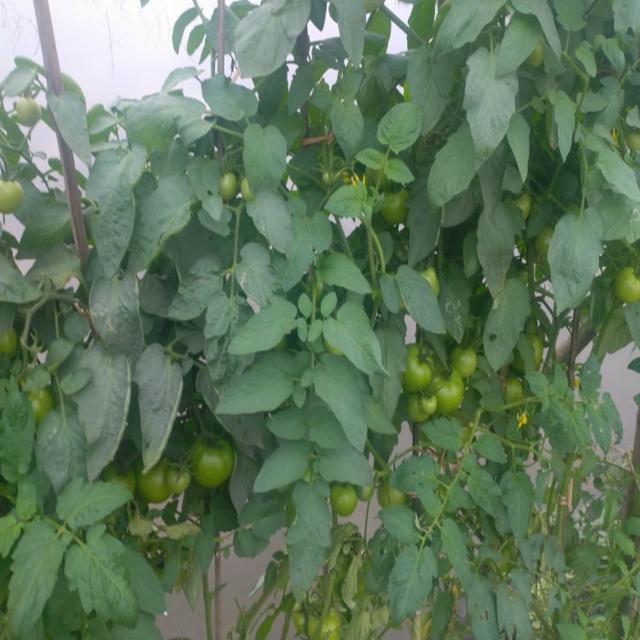tomato: (193, 438, 235, 490), (433, 373, 470, 420), (405, 342, 438, 387), (140, 468, 179, 506), (1, 172, 29, 217), (381, 189, 413, 228), (409, 393, 442, 428), (332, 484, 362, 517), (173, 461, 200, 496), (618, 265, 640, 307), (17, 99, 45, 131), (453, 347, 480, 379), (378, 488, 411, 509), (31, 390, 54, 420), (321, 609, 343, 638), (533, 225, 553, 252), (223, 175, 241, 204), (236, 179, 256, 205), (1, 325, 19, 353), (425, 265, 442, 294), (506, 377, 524, 404), (533, 335, 546, 367), (517, 189, 534, 211)
